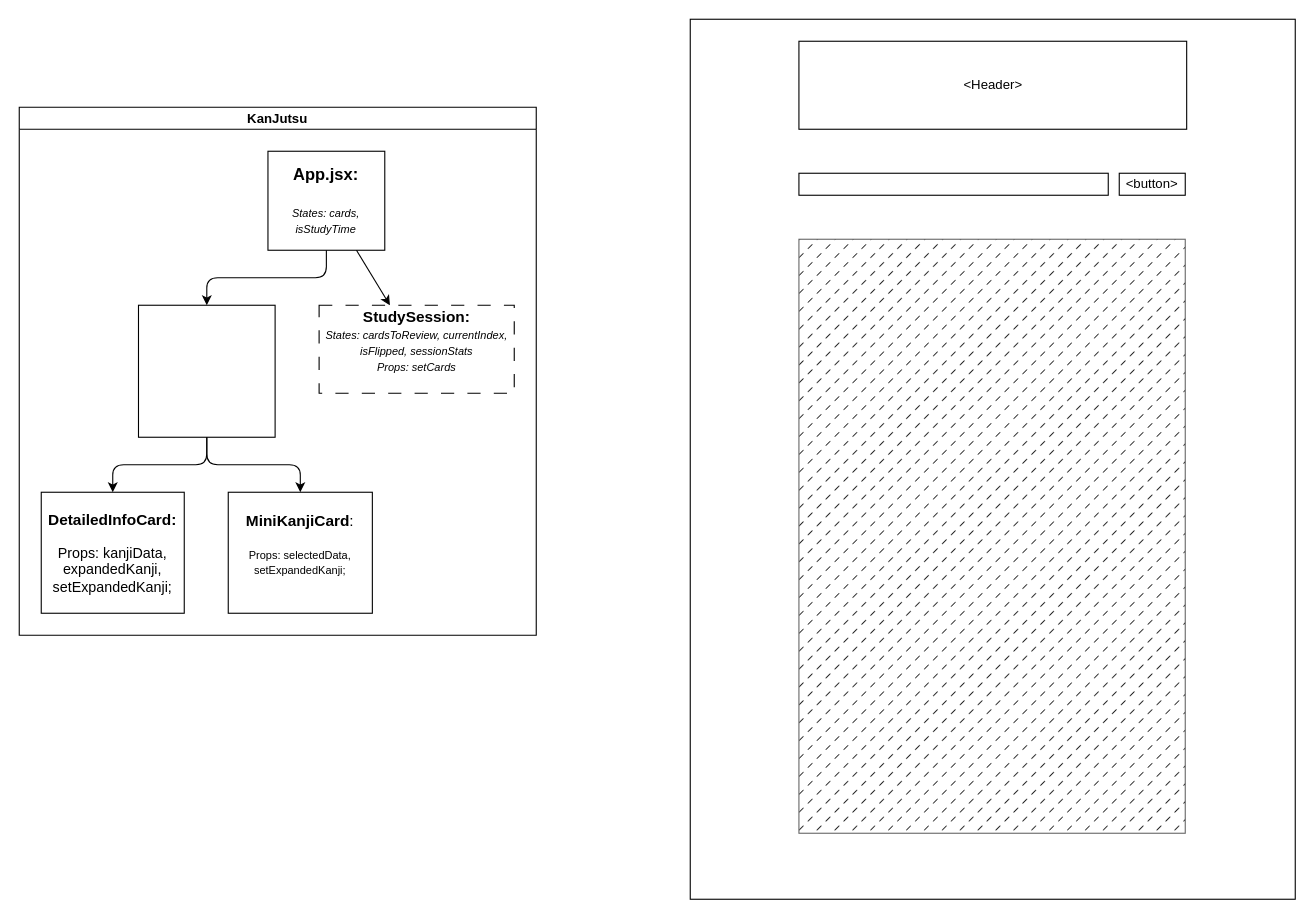
This 1315x919 diagram has some shape labels left out. Here are the shapes that lost their labels. From the top down, the centre of each, then its label:
At point 953,183: "<Input>".
At point 206,370: "Query: States: query, error, kanjiList, expandedKanji, Props: setCards".
At point 991,535: "<output>".
